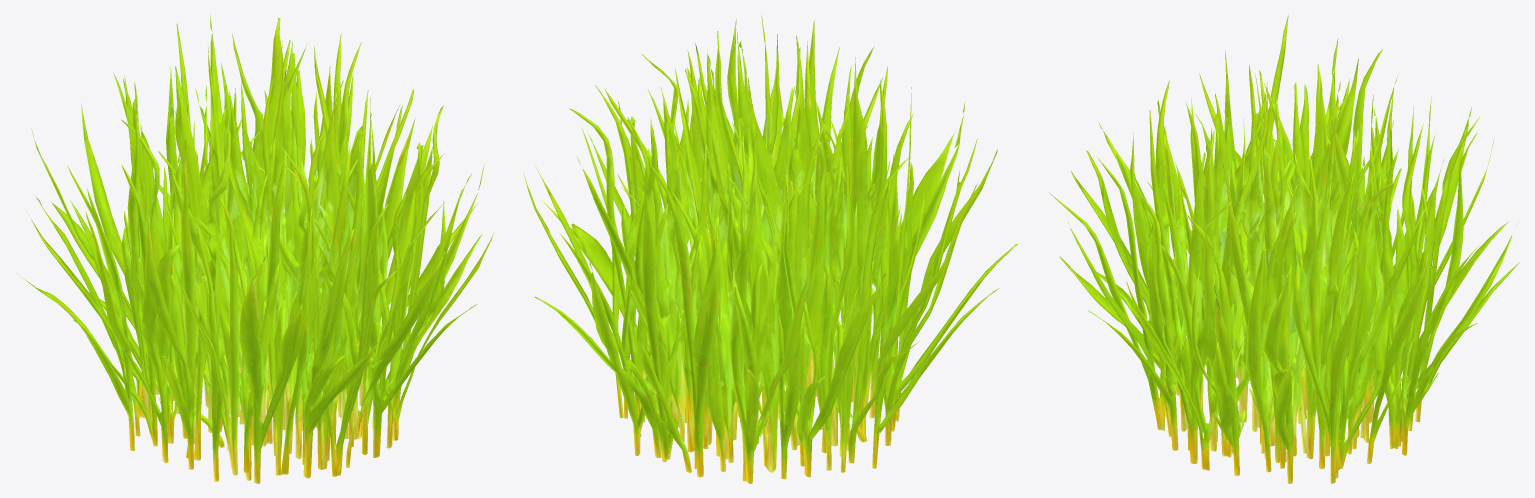
File: rice-stage-2.glb
3 renders of one model, left to right at view 1: azimuth 30°, elevation 25°; view 2: azimuth 150°, elevation 25°; view 3: azimuth 270°, elevation 25°, orthographic. The views are drawn at different scales.
Parts seen in each view (by area): view 1: Mesh_0; view 2: Mesh_0; view 3: Mesh_0.
Boxes of the visible parts, x1,y1,x2,y2 form: Mesh_0: (17,14,494,483); Mesh_0: (523,14,1017,483); Mesh_0: (1049,14,1519,483).
Bounding box in the file's own units: 0.157 × 0.14 × 0.155.
Materials: 1 (1 with a texture image).
